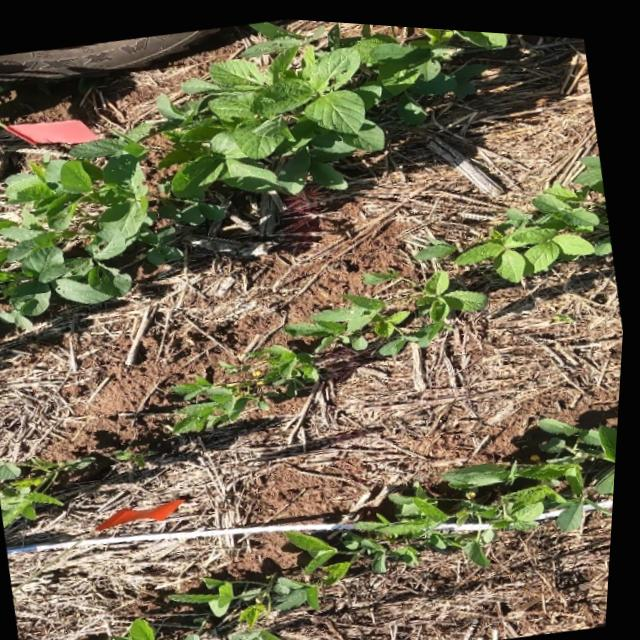soy_plant: (0, 18, 507, 326), (117, 412, 622, 640), (176, 264, 490, 429), (417, 149, 615, 276), (2, 462, 65, 524), (0, 457, 100, 479), (365, 266, 401, 280)
